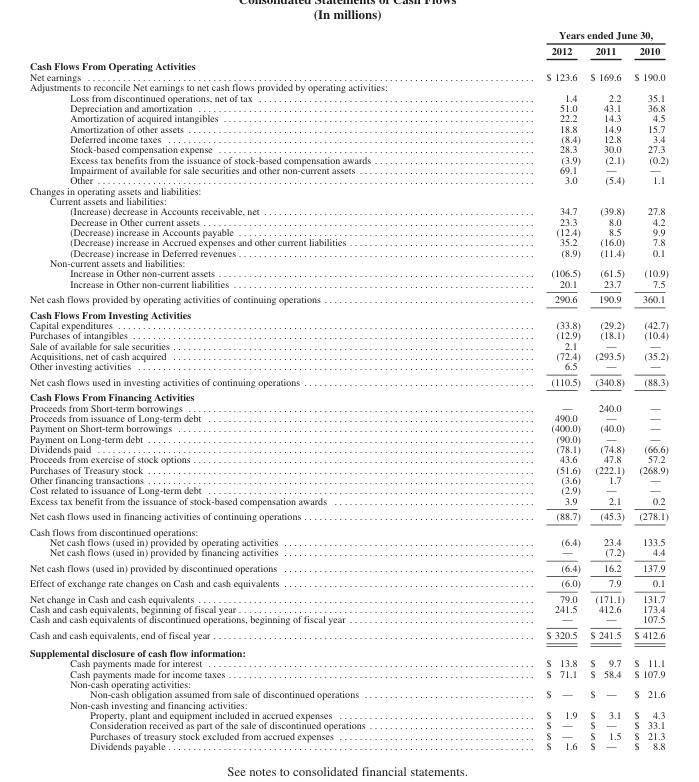table: (28, 28, 667, 751)
table column: (28, 28, 458, 751), (458, 28, 584, 751), (584, 28, 628, 751), (628, 28, 667, 751)
table column header: (28, 28, 667, 58)
table projected row header: (28, 643, 667, 657), (28, 58, 667, 71), (28, 306, 667, 319), (28, 388, 667, 401), (28, 523, 667, 536), (28, 184, 667, 195), (28, 81, 667, 91), (28, 195, 667, 205), (28, 257, 667, 267), (28, 678, 667, 688), (28, 699, 667, 709)
table row: (28, 626, 667, 643), (28, 42, 667, 58), (28, 290, 667, 306), (28, 507, 667, 523), (28, 559, 667, 575), (28, 373, 667, 388), (28, 575, 667, 590), (28, 28, 667, 42), (28, 643, 667, 657), (28, 58, 667, 71), (28, 277, 667, 290), (28, 306, 667, 319), (28, 360, 667, 373), (28, 388, 667, 401), (28, 494, 667, 507), (28, 523, 667, 536), (28, 546, 667, 559), (28, 590, 667, 603), (28, 613, 667, 626), (28, 91, 667, 102), (28, 122, 667, 133), (28, 153, 667, 164), (28, 184, 667, 195), (28, 215, 667, 226), (28, 246, 667, 257), (28, 339, 667, 350), (28, 401, 667, 412), (28, 432, 667, 443), (28, 463, 667, 474), (28, 657, 667, 668), (28, 688, 667, 699), (28, 719, 667, 730), (28, 740, 667, 751), (28, 71, 667, 81), (28, 81, 667, 91), (28, 102, 667, 112), (28, 112, 667, 122), (28, 133, 667, 143), (28, 143, 667, 153), (28, 164, 667, 174), (28, 174, 667, 184), (28, 195, 667, 205), (28, 205, 667, 215), (28, 226, 667, 236), (28, 236, 667, 246), (28, 257, 667, 267), (28, 267, 667, 277), (28, 319, 667, 329), (28, 329, 667, 339), (28, 350, 667, 360), (28, 412, 667, 422), (28, 422, 667, 432), (28, 443, 667, 453), (28, 453, 667, 463), (28, 474, 667, 484), (28, 484, 667, 494), (28, 536, 667, 546), (28, 603, 667, 613), (28, 668, 667, 678), (28, 678, 667, 688), (28, 699, 667, 709), (28, 709, 667, 719), (28, 730, 667, 740)
table spanning cell: (458, 28, 667, 42)
